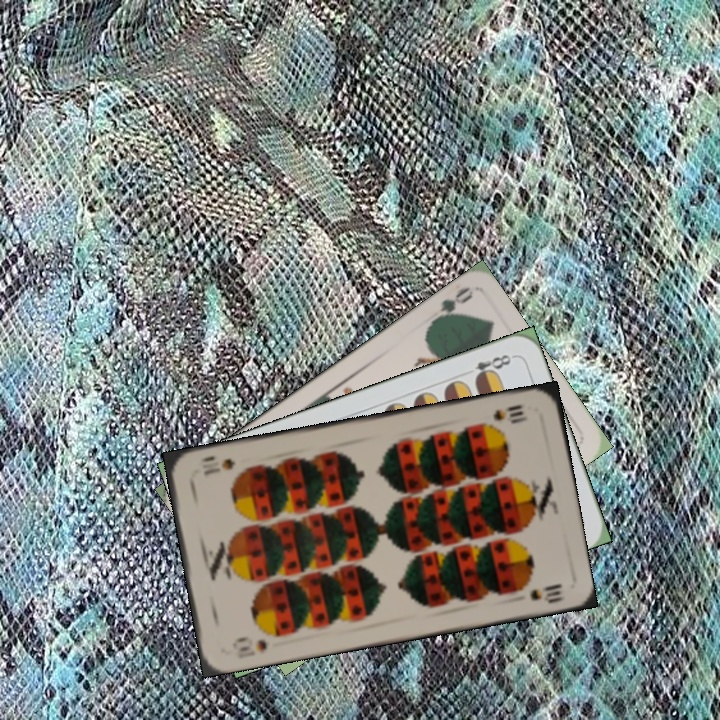E8: (470, 350, 517, 384)
GO: (425, 283, 475, 330)
S10: (228, 633, 270, 661), (489, 400, 530, 424)
